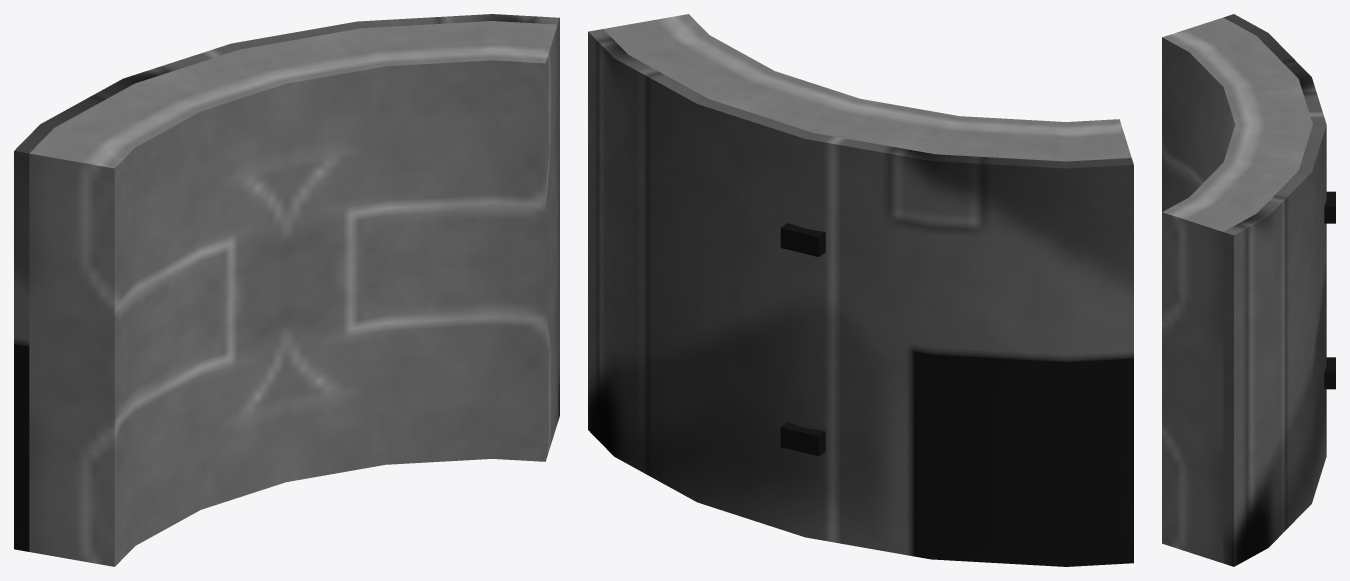
File: rad2_wide.obj
3 renders of one model, left to right at view 1: azimuth 30°, elevation 25°; view 2: azimuth 150°, elevation 25°; view 3: azimuth 270°, elevation 25°, orthographic. The views are drawn at different scales.
Parts seen in each view (by area): view 1: 1; view 2: 1; view 3: 1.
Part boxes in pixels (x1,y1,x2,y2): 1: (14,14,559,566); 1: (588,14,1133,566); 1: (1162,14,1335,566).
Size of the model in its own units: 1.43 by 1 by 0.4751.
